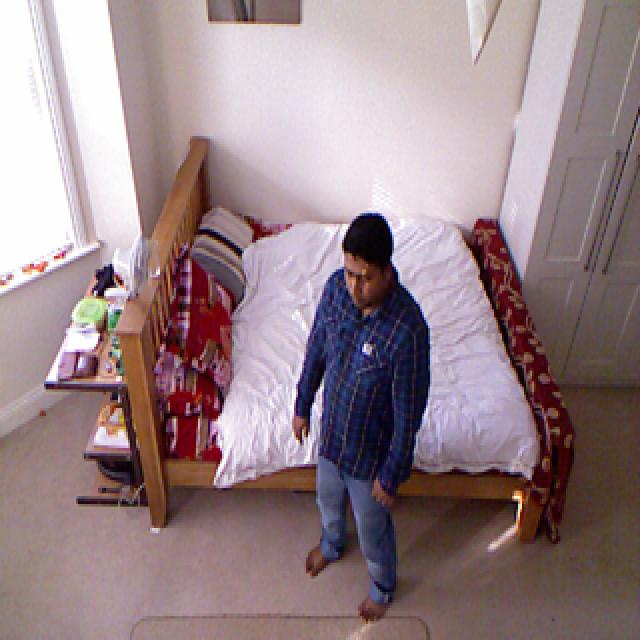standing: (292, 210, 432, 609)
